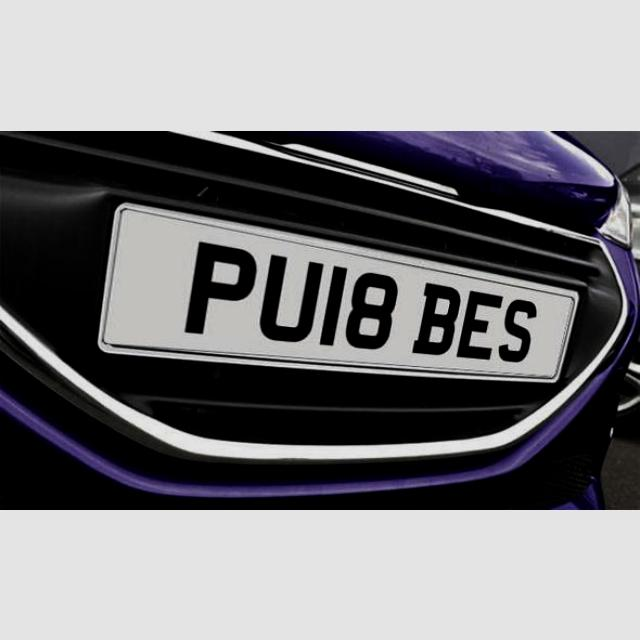plate: (169, 220, 545, 404)
